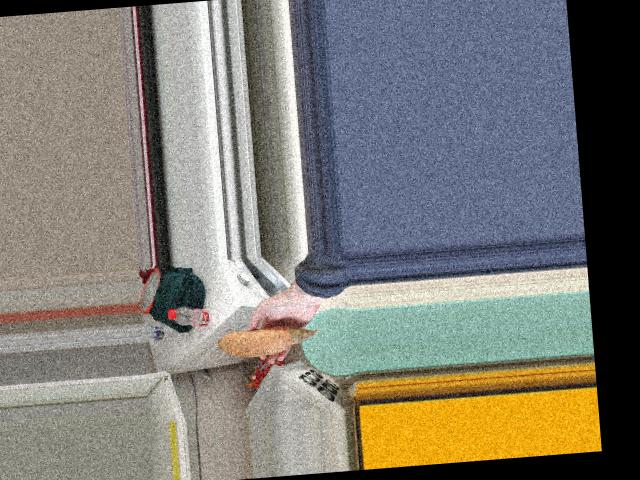sweet_potato: (208, 319, 298, 359)
